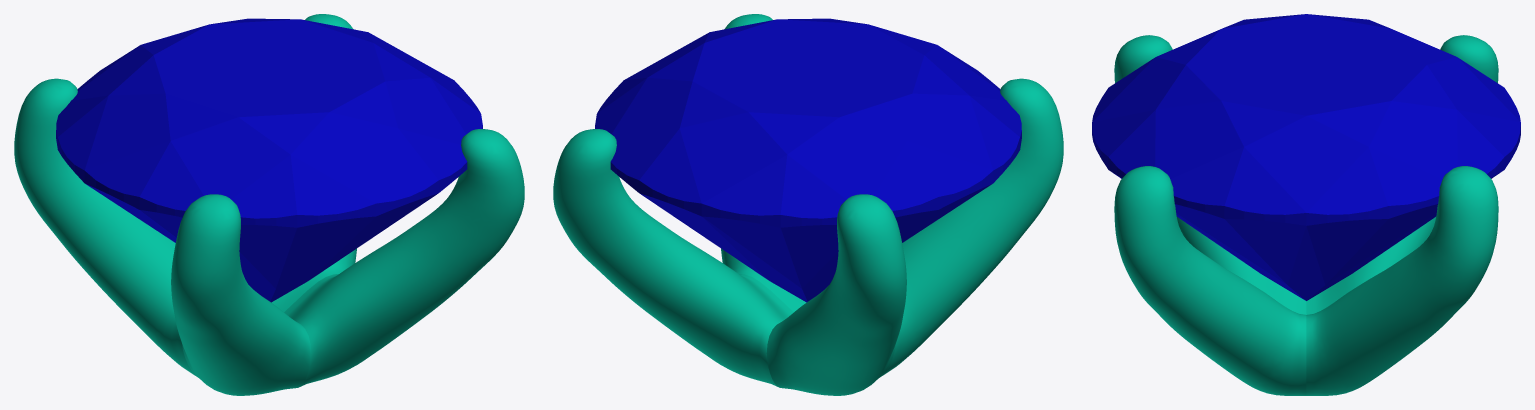
The model's file is round.glb.
3 renders of one model, left to right at view 1: azimuth 30°, elevation 25°; view 2: azimuth 150°, elevation 25°; view 3: azimuth 270°, elevation 25°, orthographic.
Visible parts, largest first — view 1: DIA-RNDHD-B1-1, MTL-HEAD-1 (×4); view 2: DIA-RNDHD-B1-1, MTL-HEAD-1 (×4); view 3: DIA-RNDHD-B1-1, MTL-HEAD-1 (×4).
Boxes of the visible parts, bbox=[...] form: DIA-RNDHD-B1-1: bbox=[56, 18, 482, 302]; MTL-HEAD-1 (×4): bbox=[14, 14, 524, 395]; DIA-RNDHD-B1-1: bbox=[595, 18, 1021, 302]; MTL-HEAD-1 (×4): bbox=[553, 14, 1063, 395]; DIA-RNDHD-B1-1: bbox=[1092, 14, 1520, 300]; MTL-HEAD-1 (×4): bbox=[1114, 35, 1498, 395].
Size of the model in its own units: 8.1 by 6.37 by 8.1.
